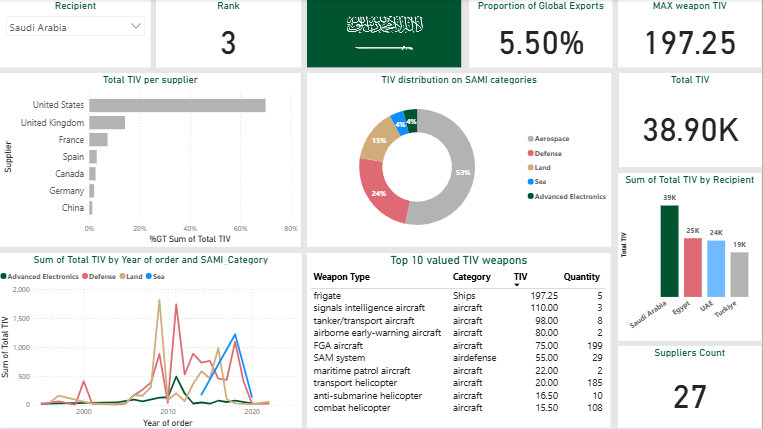

This screenshot's page, from the dashboard's own definition file:
{"tool":"powerbi","page":{"name":"Saudi Arabia","canvas":[1280,720],"ordinal":1},"visuals":[{"type":"clusteredBarChart","title":"Total TIV per supplier","fields":{"Category":["weapons exchange from 1995.Supplier"],"Y":["Sum(weapons exchange from 1995.Total TIV)"]},"box":[0,124.7,505.5,291.8],"z":0},{"type":"tableEx","title":"Top 10 valued TIV weapons","fields":{"Values":["weapons exchange from 1995.Weapon description","weapons exchange from 1995.Category","Max(weapons exchange from 1995.TIV per Unit)","Sum(weapons exchange from 1995.Number delivered)"]},"box":[516.4,427.4,509.6,293.2],"z":1000},{"type":"image","box":[516.4,0,258.9,115.1],"z":2000},{"type":"donutChart","title":"TIV distribution on SAMI categories","fields":{"Y":["Sum(weapons exchange from 1995.Total TIV)"],"Category":["weapons exchange from 1995.SAMI_Category"]},"box":[516.4,124.7,511,291.8],"z":3000},{"type":"clusteredColumnChart","fields":{"Category":["weapons exchange from 1995.Recipient"],"Y":["Sum(weapons exchange from 1995.Total TIV)"]},"box":[1038.4,291.8,241.1,282.2],"z":4000},{"type":"slicer","title":"Recipient ","fields":{"Values":["weapons exchange from 1995.Recipient"]},"box":[0,0,253.4,115.1],"z":5000},{"type":"card","title":"Proportion of Global Exports","fields":{"Values":["weapons exchange from 1995.Saudi_Percentage"]},"box":[787.7,0,241.1,115.1],"z":6000},{"type":"lineChart","fields":{"Y":["Sum(weapons exchange from 1995.Total TIV)"],"Category":["weapons exchange from 1995.Year of order"],"Series":["weapons exchange from 1995.SAMI_Category"]},"box":[0,427.4,506.8,293.2],"z":7000},{"type":"card","title":"Rank","fields":{"Values":["weapons exchange from 1995.Recipient_Rank"]},"box":[261.6,0,243.8,115.1],"z":8000},{"type":"card","title":"Suppliers Count","fields":{"Values":["Count(weapons exchange from 1995.Supplier)"]},"box":[1038.4,583.6,241.1,137],"z":10000},{"type":"card","title":"MAX weapon TIV","fields":{"Values":["Max(weapons exchange from 1995.TIV per Unit)"]},"box":[1038.4,0,241.1,115.1],"z":11000},{"type":"card","title":"Total TIV","fields":{"Values":["Sum(weapons exchange from 1995.Total TIV)"]},"box":[1039.7,124.7,239.7,157.5],"z":12000}]}

Visuals, with their boxes in screenshot pixels (x1, y1, x2, y2), scaled from the page's 1280x720 canvas onto the 763x429 screenshot:
"Total TIV per supplier" clusteredBarChart: <region>0, 74, 301, 248</region>
"Top 10 valued TIV weapons" tableEx: <region>308, 255, 612, 428</region>
image: <region>308, 0, 462, 69</region>
"TIV distribution on SAMI categories" donutChart: <region>308, 74, 612, 248</region>
clusteredColumnChart - weapons exchange from 1995.Recipient x Sum(weapons exchange from 1995.Total TIV): <region>619, 174, 762, 342</region>
"Recipient " slicer: <region>0, 0, 151, 69</region>
"Proportion of Global Exports" card: <region>470, 0, 613, 69</region>
lineChart - Sum(weapons exchange from 1995.Total TIV) x weapons exchange from 1995.Year of order: <region>0, 255, 302, 428</region>
"Rank" card: <region>156, 0, 301, 69</region>
"Suppliers Count" card: <region>619, 348, 762, 428</region>
"MAX weapon TIV" card: <region>619, 0, 762, 69</region>
"Total TIV" card: <region>620, 74, 762, 168</region>
